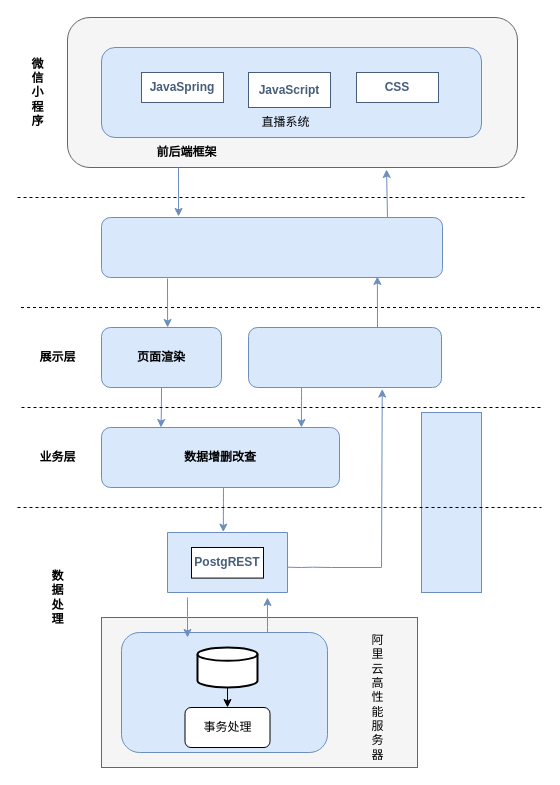
The diagram is 560 pixels wide and 785 high, and some of its shapes have lost their labels. Each missing label, with the centre of its shape:
"CDN加速器" belongs at (271,247).
"HTTP请求" belongs at (345,357).
"Postgres" belongs at (227,667).
"数 据 安 全 和 日 志 记 录" belongs at (451,502).
